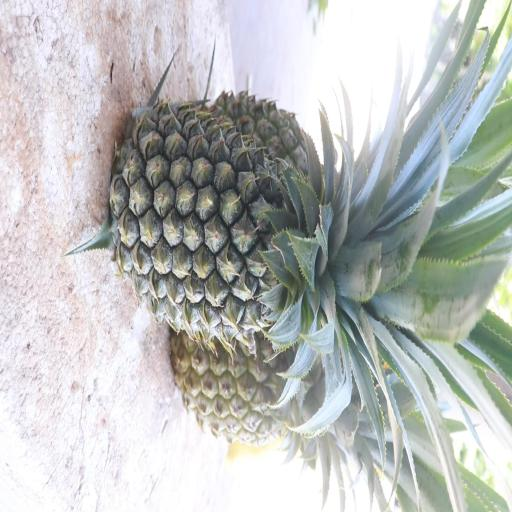------------------------------: (164, 253, 404, 453)
